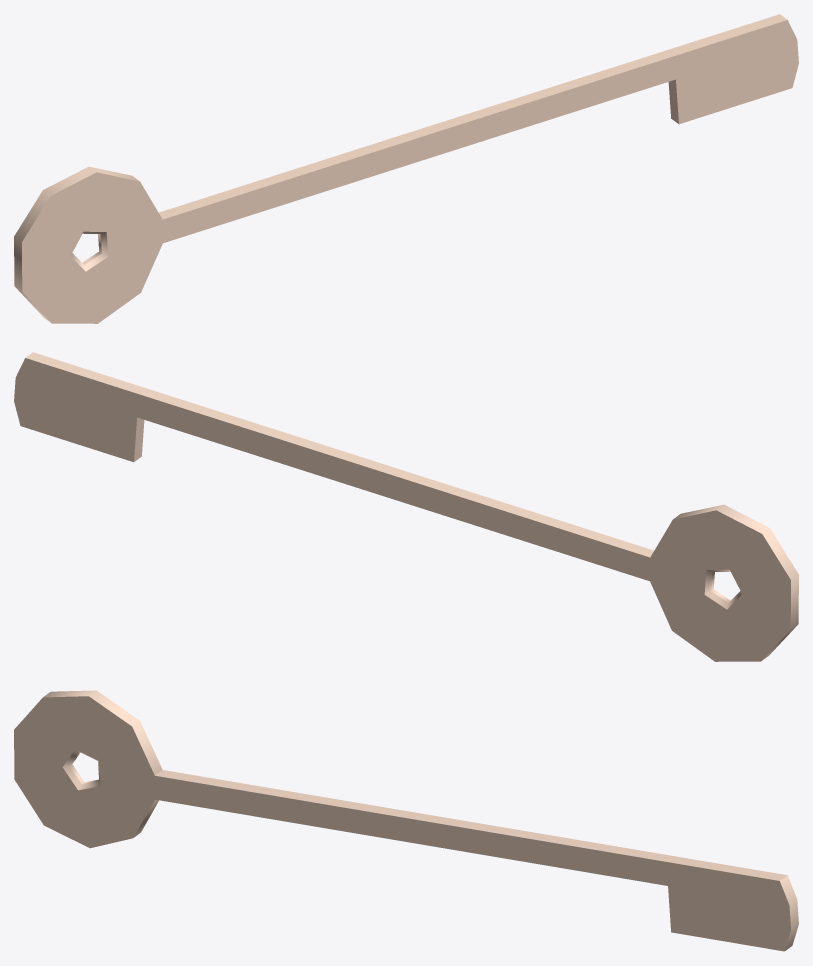
File: Bras Gdetente Quarts.obj
The picture shows the model from 3 angles, top to bottom: view 1: azimuth 30°, elevation 25°; view 2: azimuth 150°, elevation 25°; view 3: azimuth 330°, elevation 25°; orthographic projection.
Visible parts, largest first — view 1: Face_3, Face_5, Face_1; view 2: Face_2, Face_5, Face_1; view 3: Face_3, Face_5, Face_1, Face_6, Face_10.
Part boxes in pixels (x1=…): Face_3: x1=22, y1=20, x2=798, y2=323; Face_5: x1=159, y1=14, x2=787, y2=219; Face_1: x1=14, y1=166, x2=139, y2=322; Face_2: x1=14, y1=358, x2=790, y2=661; Face_5: x1=25, y1=352, x2=653, y2=557; Face_1: x1=673, y1=504, x2=798, y2=660; Face_3: x1=14, y1=696, x2=790, y2=951; Face_5: x1=155, y1=770, x2=787, y2=880; Face_1: x1=43, y1=690, x2=162, y2=837; Face_6: x1=780, y1=875, x2=798, y2=950; Face_10: x1=62, y1=749, x2=100, y2=790.
Bounding box in the file's own units: 0.0854 × 0.0159 × 0.0015.
